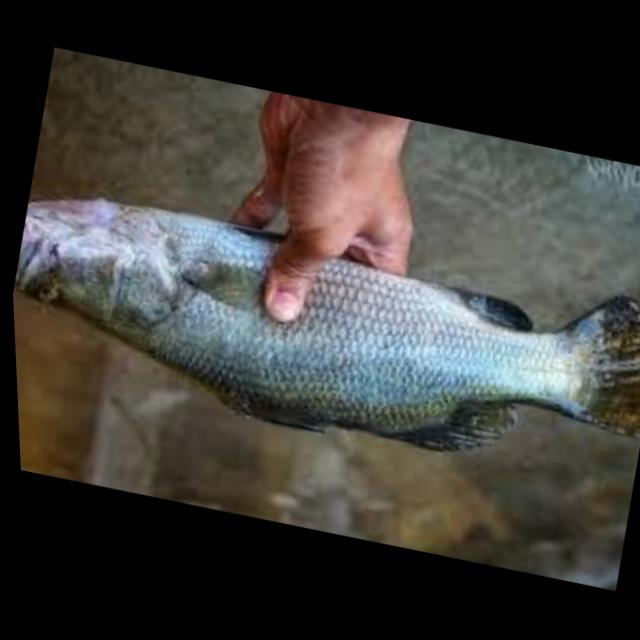Seabass: (8, 168, 640, 504)
